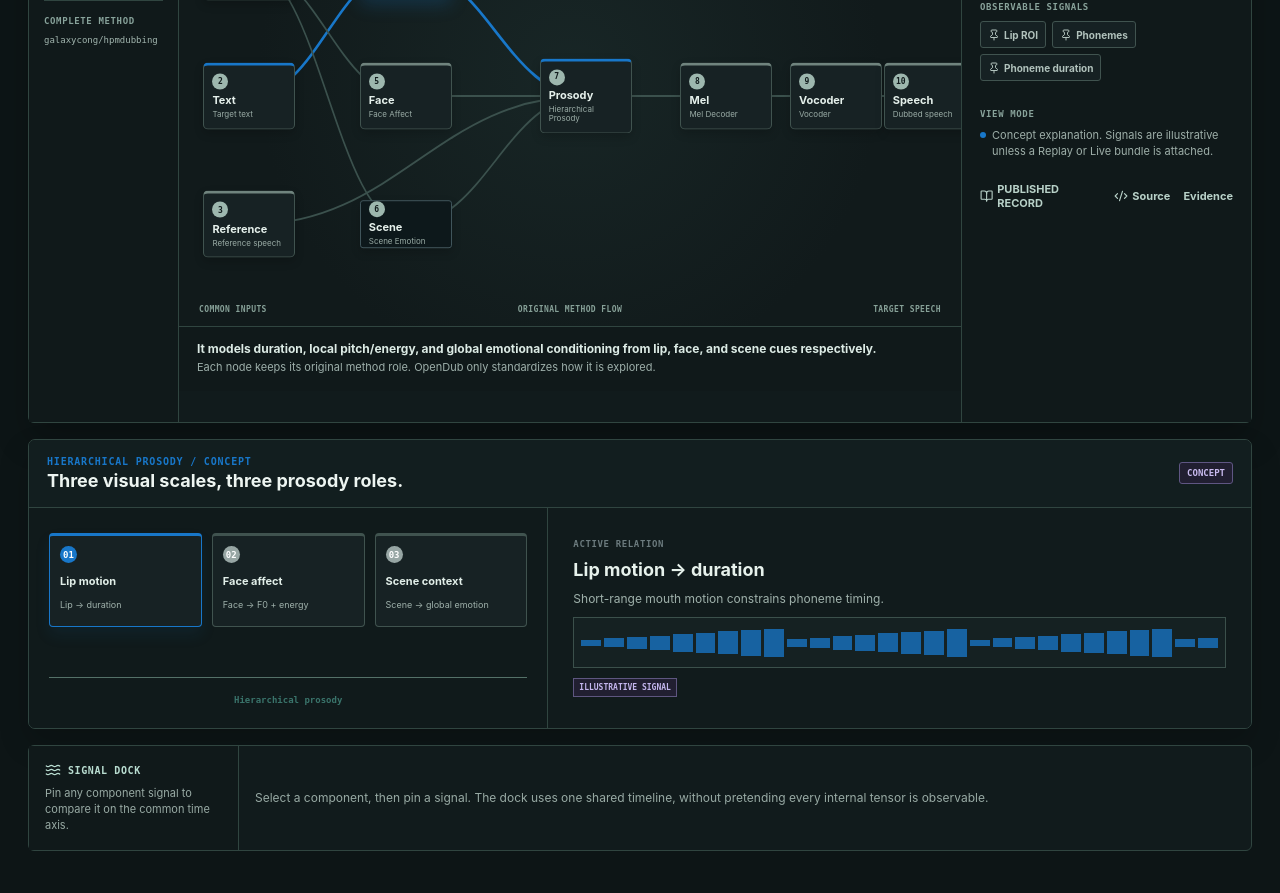
Test: MethodCanvasPage › selects a complete-method component and exposes its evidence-bound signals
This screenshot has width=1280, height=893.
(page scrolled)
Click the button with aria-label "Inspect Face Affect": coordinates (406, 96) x1=360 y1=62 x2=452 y2=129
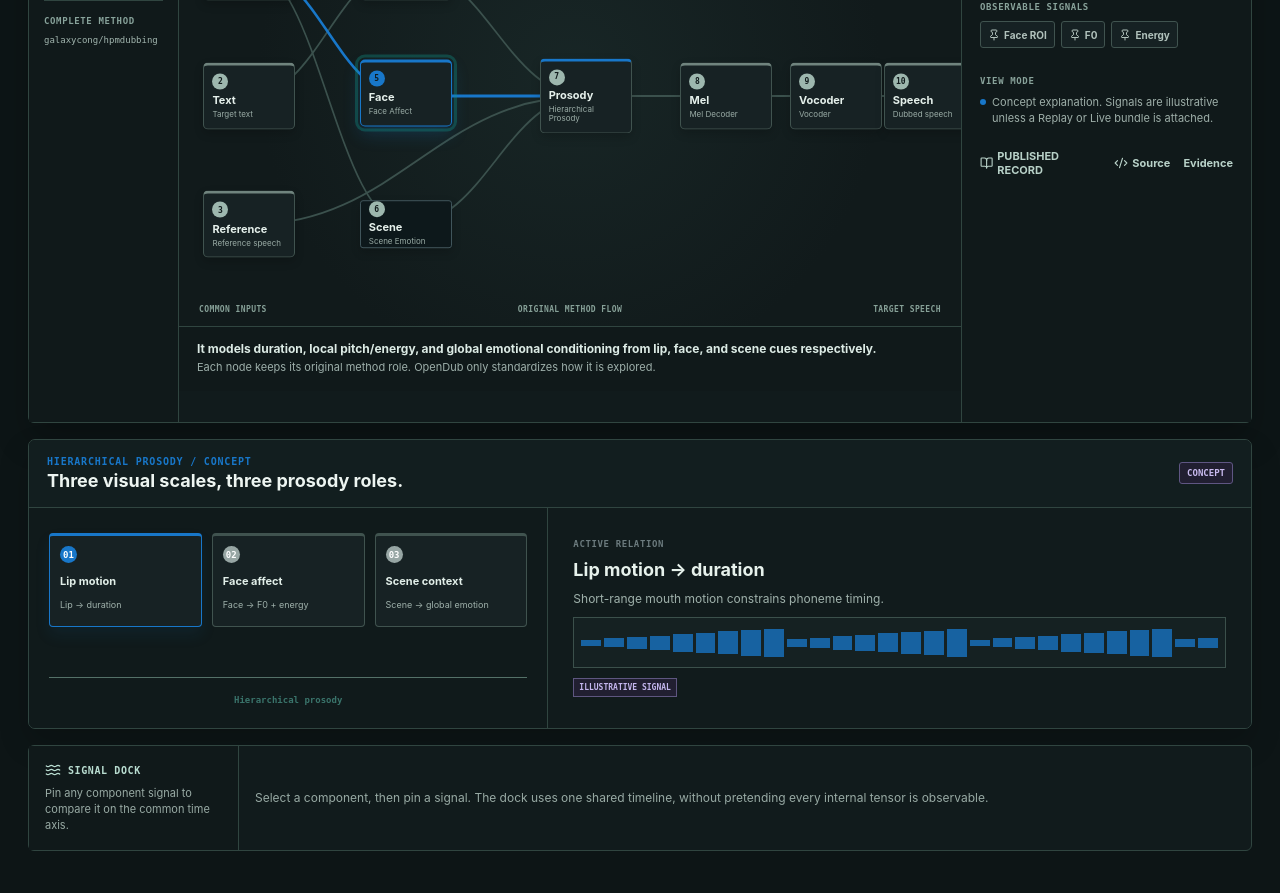
Now the button "Face ROI" is shown, box x1=980 y1=21 x2=1055 y2=48
Now the button "F0" is shown, box x1=1061 y1=21 x2=1105 y2=48
